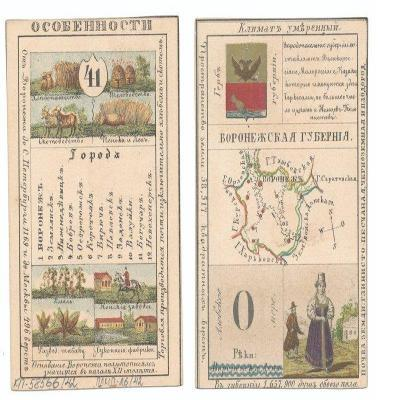graphics: (6, 16, 182, 393), (194, 18, 368, 391)
